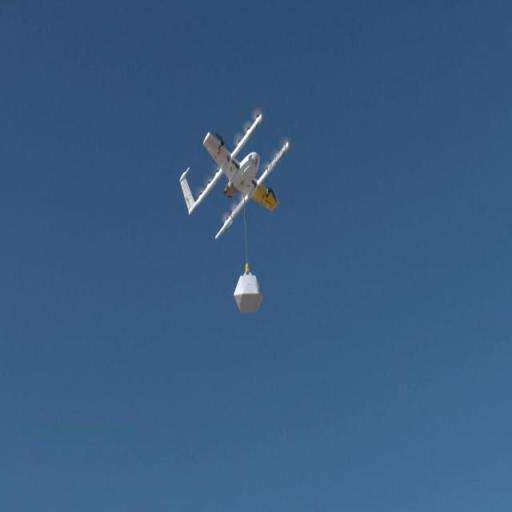uav: (168, 104, 300, 242)
